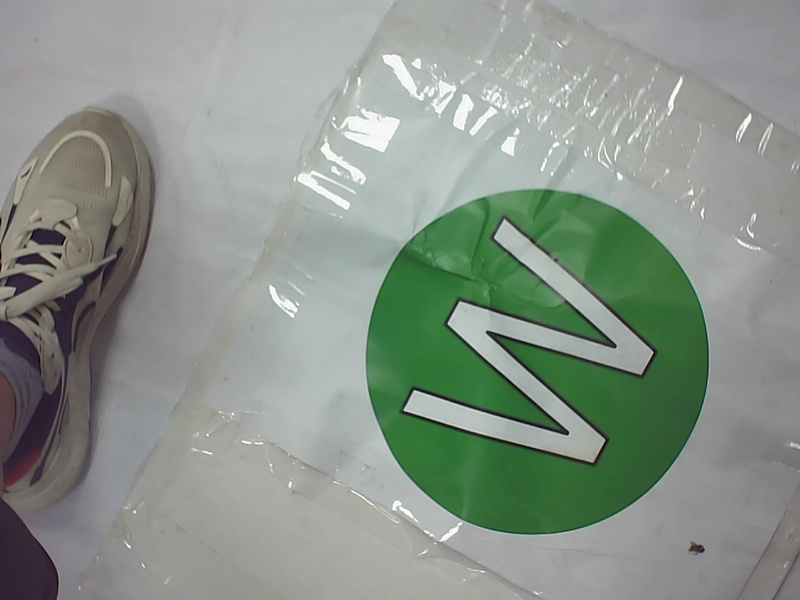areaB: (351, 190, 716, 542)
